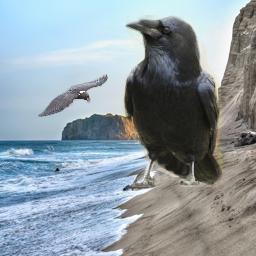Crow: (122, 15, 223, 187), (38, 74, 108, 117)
